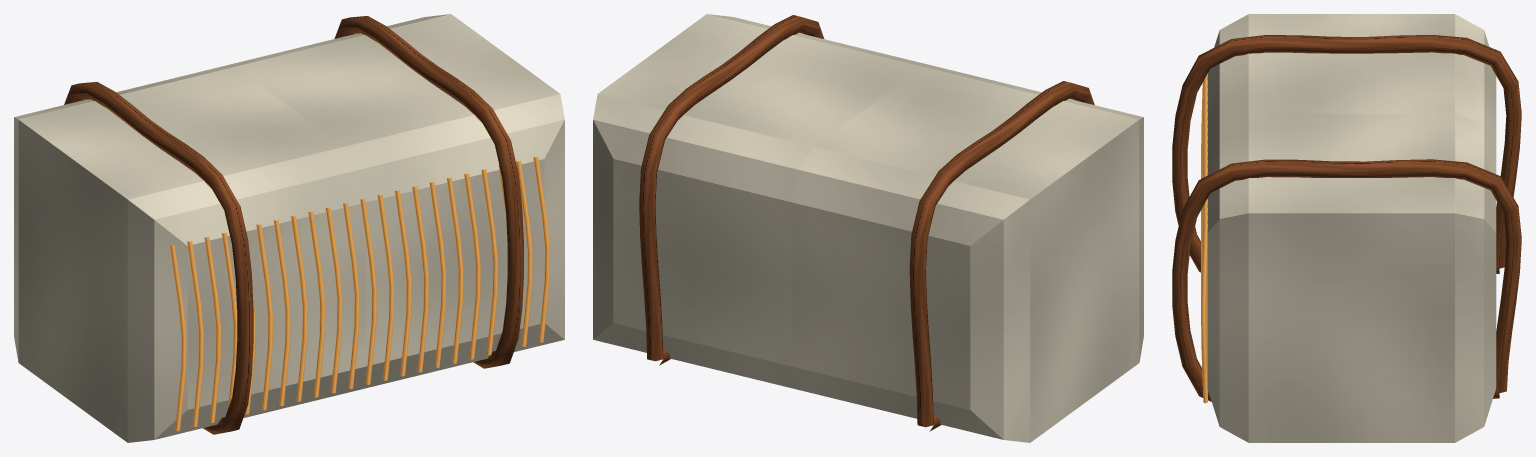
File: hollowwick-halloween-bound-hay-bale-483817cf__21593.glb
3 views of the same model, side by side, from view 1: azimuth 30°, elevation 25°; view 2: azimuth 150°, elevation 25°; view 3: azimuth 270°, elevation 25° (orthographic). The views are drawn at different scales.
Visible parts, largest first — view 1: bound-hay-bale; view 2: bound-hay-bale; view 3: bound-hay-bale.
Boxes of the visible parts, left/top/right/bottom form: bound-hay-bale: left=14, top=14, right=564, bottom=442; bound-hay-bale: left=593, top=14, right=1143, bottom=442; bound-hay-bale: left=1172, top=14, right=1521, bottom=442.
Bounding box in the file's own units: 0.8 × 0.4693 × 0.5929.
3 materials, 2 textured.
